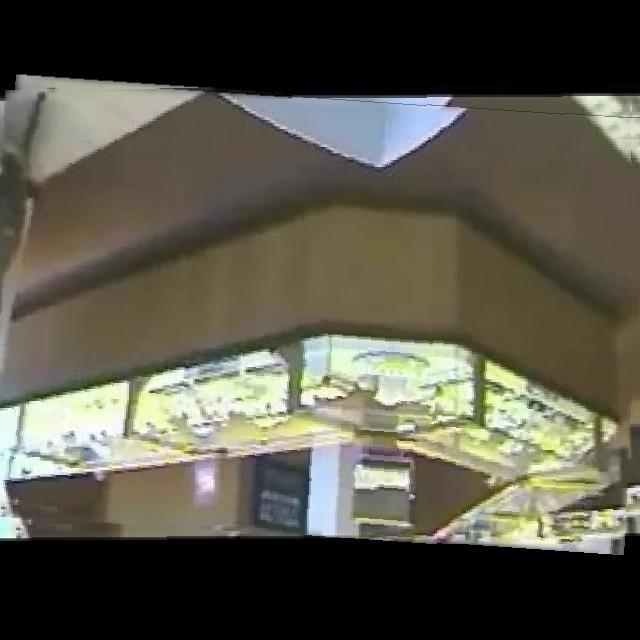normal: (0, 85, 640, 544)
